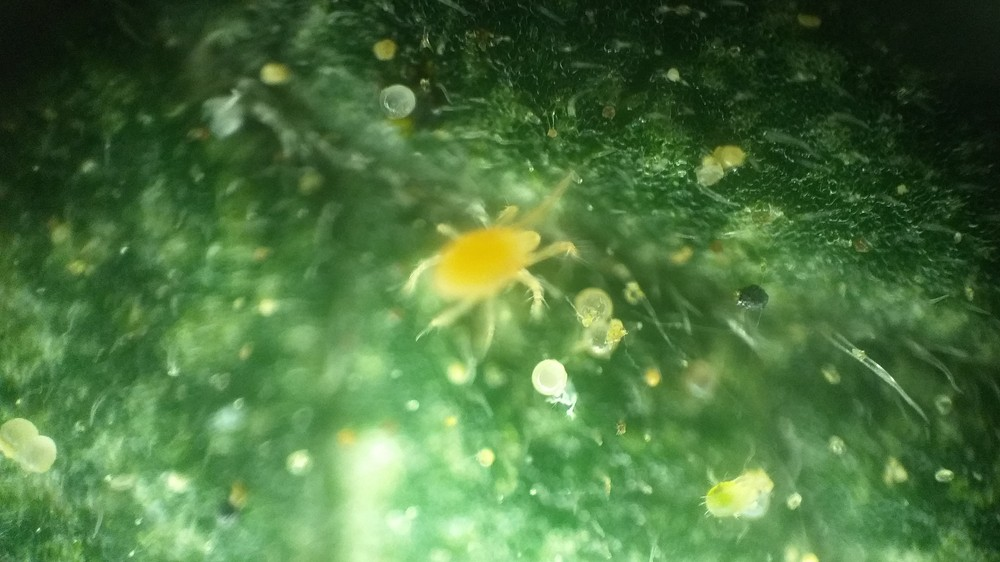Aracnido Rojo: (372, 158, 592, 364), (684, 452, 778, 533)
